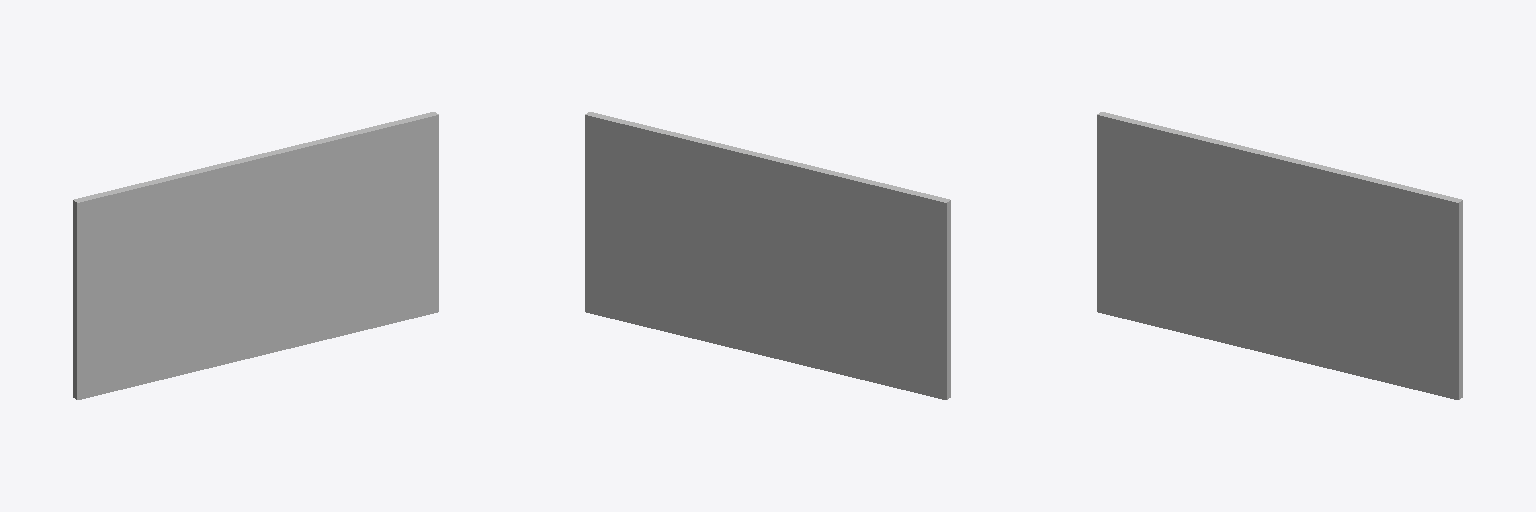
Rendered from Cell_Block_Menu_reg wall.obj.
3 views of the same model, side by side, from view 1: azimuth 30°, elevation 25°; view 2: azimuth 150°, elevation 25°; view 3: azimuth 330°, elevation 25° (orthographic).
Size of the model in its own units: 46 by 24 by 1.